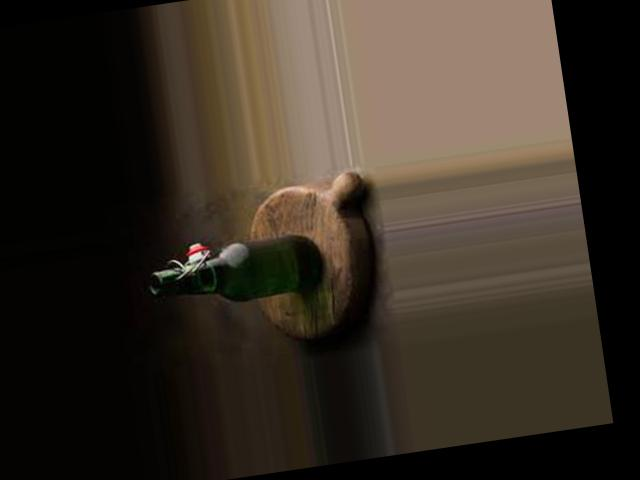beer: (143, 231, 322, 312)
